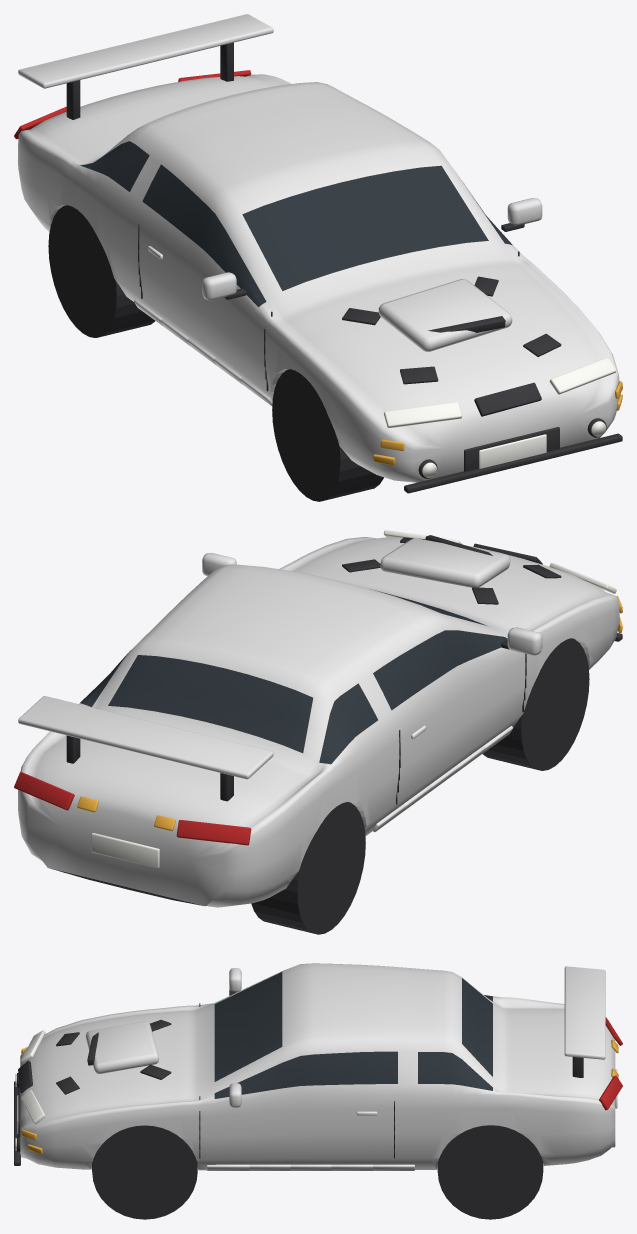
Rendered from rally.glb.
3 views of the same model, one above another, from view 1: azimuth 30°, elevation 25°; view 2: azimuth 150°, elevation 25°; view 3: azimuth 270°, elevation 25° (orthographic). The views are drawn at different scales.
Visible parts, largest first — view 1: rally, rally_well, rally_well.002, wing, scoop, splitter, headlight, plate_f, grille, headlight.001, intake, mirror (+2 smaller); view 2: rally, wing, rally_well.002, rally_well, scoop, plate_r, taillight, taillight.001, mirror; view 3: rally, rally_well.003, rally_well.001, wing, scoop, headlight.001, taillight.001, grille.
Boxes of the visible parts, bbox=[...] form: rally: bbox=[18, 74, 619, 482]; rally_well: bbox=[272, 369, 383, 501]; rally_well.002: bbox=[48, 205, 155, 337]; wing: bbox=[18, 14, 273, 88]; scoop: bbox=[378, 279, 512, 351]; splitter: bbox=[404, 433, 622, 493]; headlight: bbox=[384, 402, 462, 428]; plate_f: bbox=[479, 434, 546, 468]; grille: bbox=[474, 382, 541, 416]; headlight.001: bbox=[549, 357, 616, 394]; intake: bbox=[464, 427, 559, 471]; mirror: bbox=[202, 272, 236, 300]; rally: bbox=[18, 537, 619, 907]; wing: bbox=[18, 696, 273, 779]; rally_well.002: bbox=[251, 802, 365, 934]; rally_well: bbox=[483, 638, 589, 770]; scoop: bbox=[380, 538, 510, 587]; plate_r: bbox=[91, 833, 159, 868]; taillight: bbox=[176, 820, 251, 845]; taillight.001: bbox=[14, 772, 74, 810]; mirror: bbox=[507, 627, 542, 655]; rally: bbox=[20, 963, 615, 1170]; rally_well.003: bbox=[437, 1125, 543, 1219]; rally_well.001: bbox=[92, 1125, 197, 1219]; wing: bbox=[564, 966, 605, 1059]; scoop: bbox=[85, 1021, 158, 1073]; headlight.001: bbox=[21, 1090, 45, 1124]; taillight.001: bbox=[599, 1075, 622, 1110]; grille: bbox=[18, 1060, 32, 1093].
Bounding box in the file's own units: 2.19 × 1.44 × 4.44.
